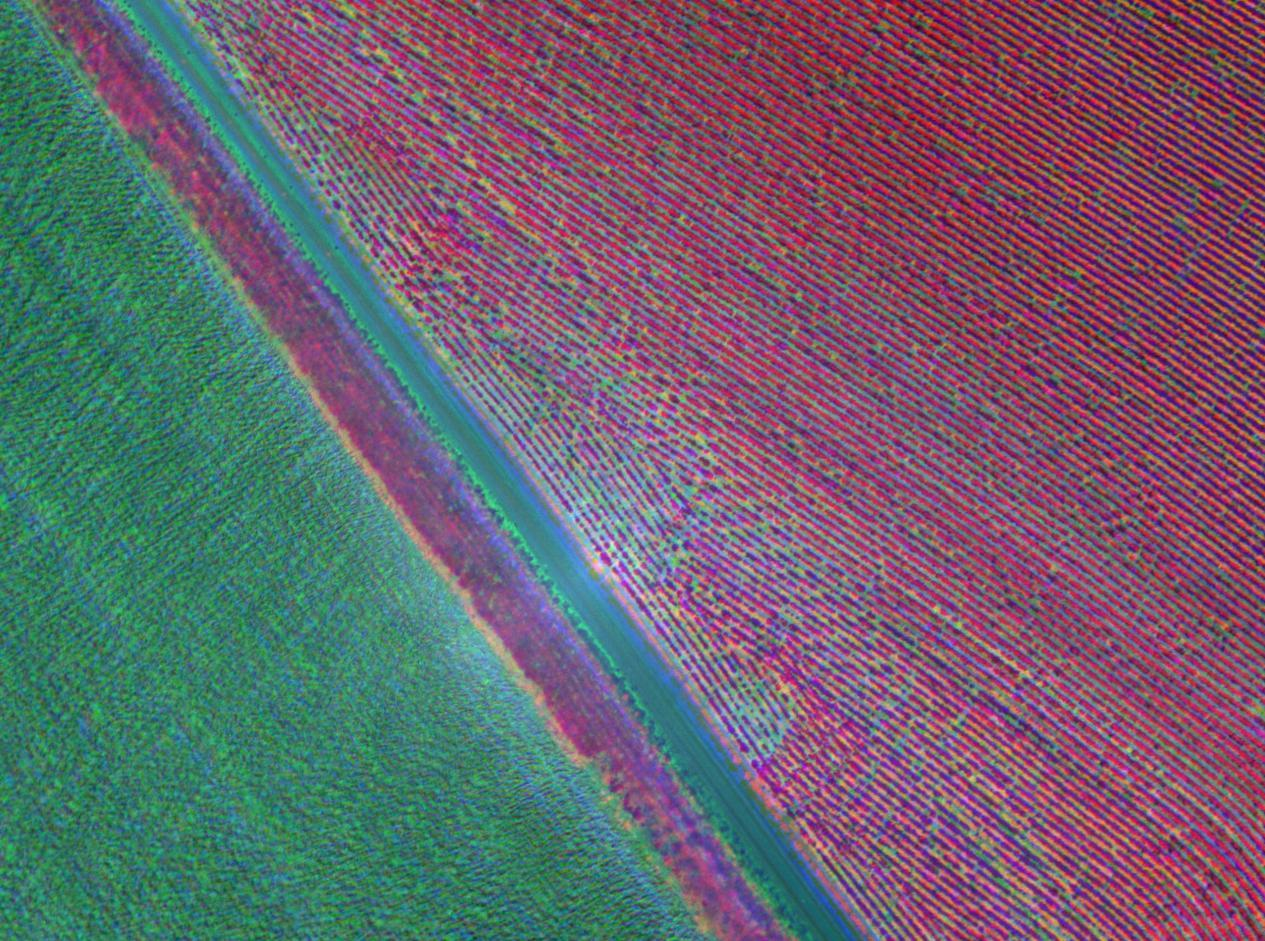dc: (504, 203, 509, 209), (378, 50, 383, 55), (448, 134, 452, 139), (587, 302, 591, 307), (618, 357, 623, 361), (1075, 273, 1079, 277), (1057, 296, 1061, 300), (698, 439, 702, 443), (686, 492, 690, 496), (1211, 53, 1215, 57), (393, 74, 397, 77), (1192, 93, 1195, 96)
